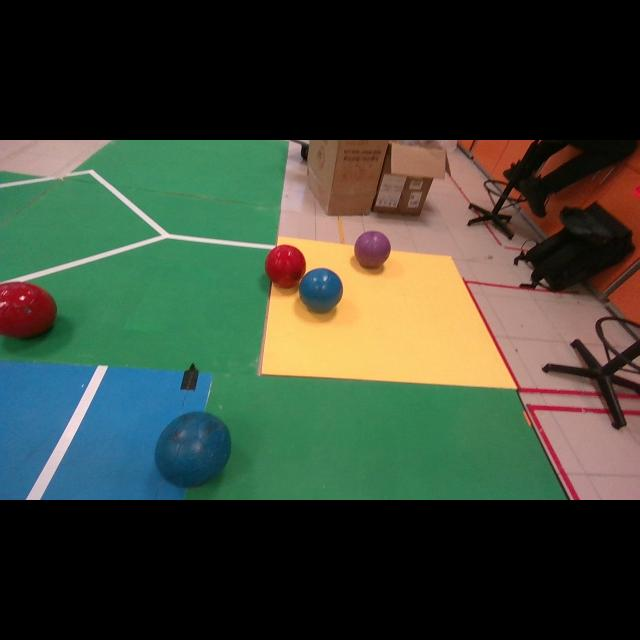B: (155, 412, 231, 487), (299, 268, 342, 312)
P: (355, 231, 391, 268)
R: (0, 284, 56, 338), (265, 245, 305, 287)
